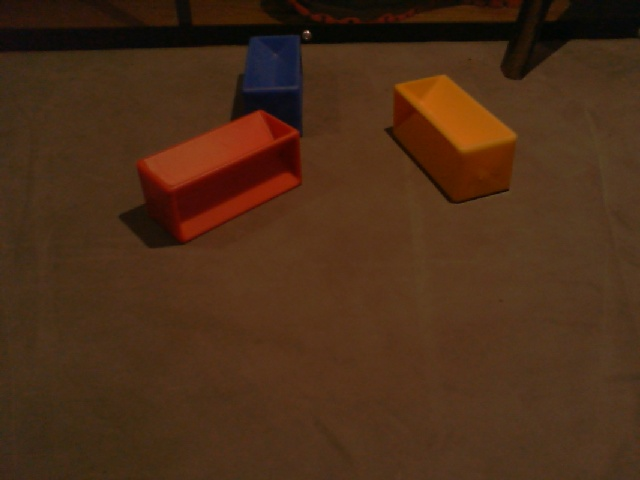BlueSample: (240, 35, 304, 142)
RedSample: (134, 109, 304, 245)
YellowSample: (390, 68, 520, 206)
